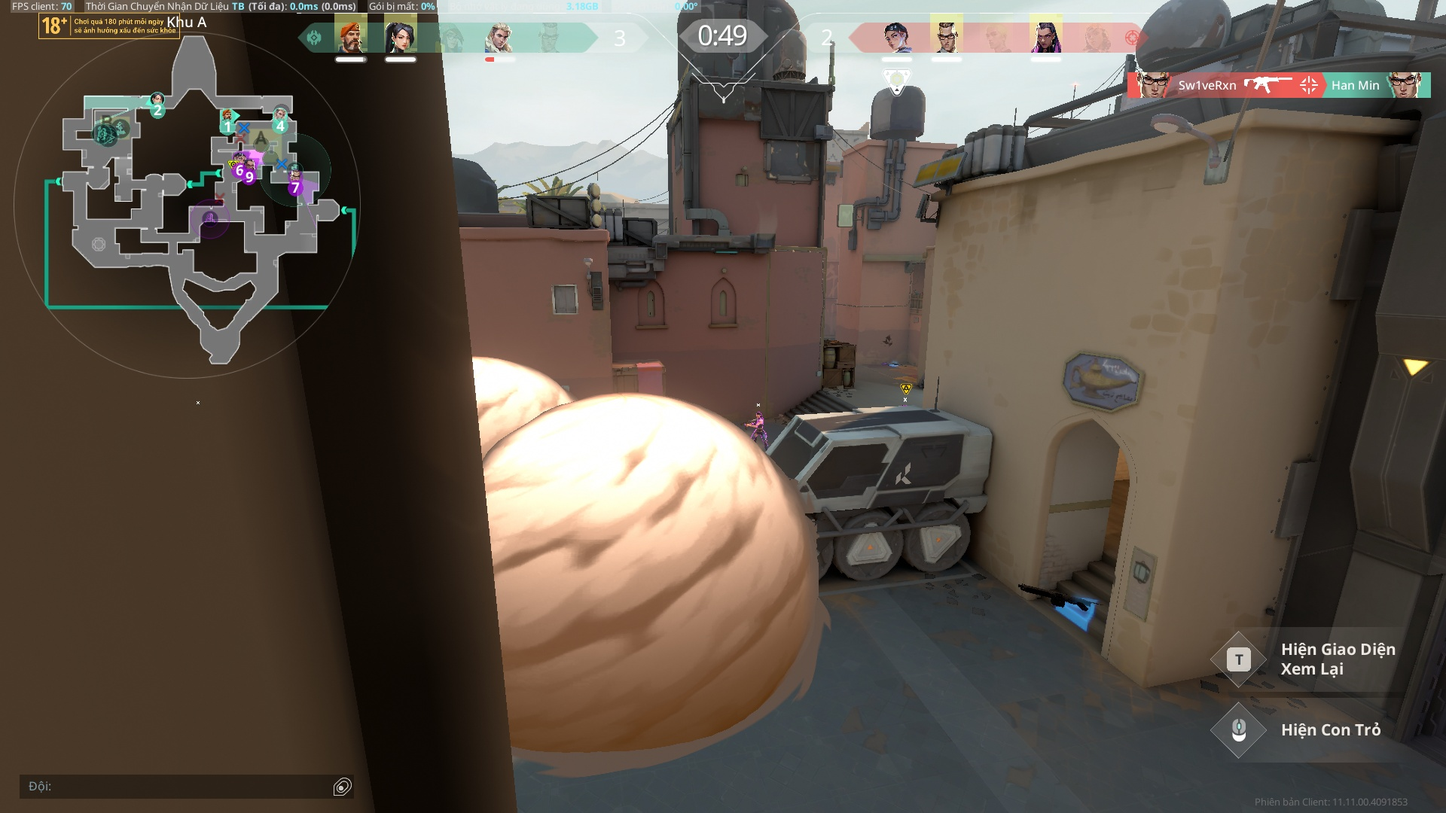body: (753, 417, 764, 429)
head: (755, 411, 761, 418)
